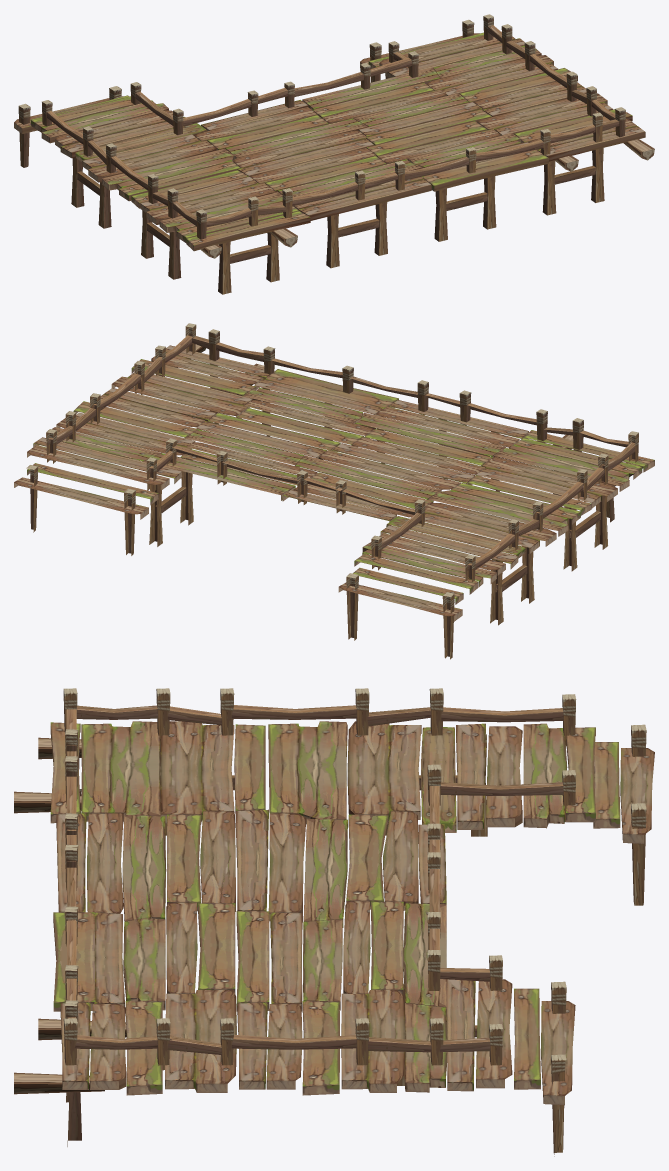
Rendered from Map_05_wooden015.FBX.
3 views of the same model, one above another, from view 1: azimuth 30°, elevation 25°; view 2: azimuth 150°, elevation 25°; view 3: azimuth 270°, elevation 25° (orthographic). The views are drawn at different scales.
Visible parts, largest first — view 1: Map_05_wooden015; view 2: Map_05_wooden015; view 3: Map_05_wooden015.
Part boxes in pixels (left/top/right/bottom): Map_05_wooden015: left=14, top=14, right=654, bottom=294; Map_05_wooden015: left=14, top=323, right=654, bottom=659; Map_05_wooden015: left=14, top=688, right=654, bottom=1156.
Size of the model in its own units: 1562 by 282 by 1159.
